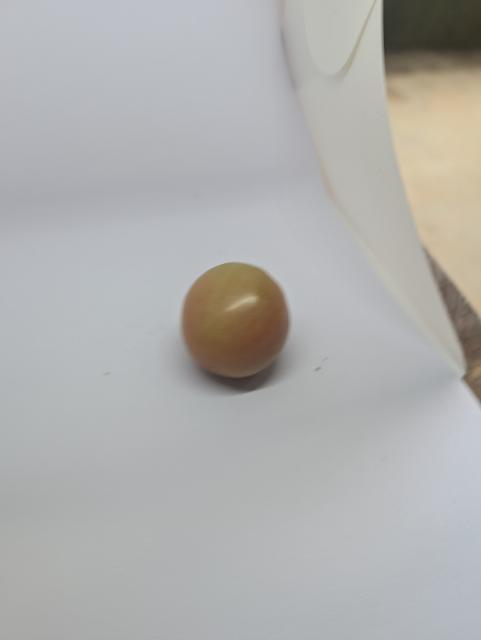turning: (177, 252, 296, 395)
